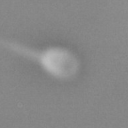normal: (1, 31, 42, 62)
